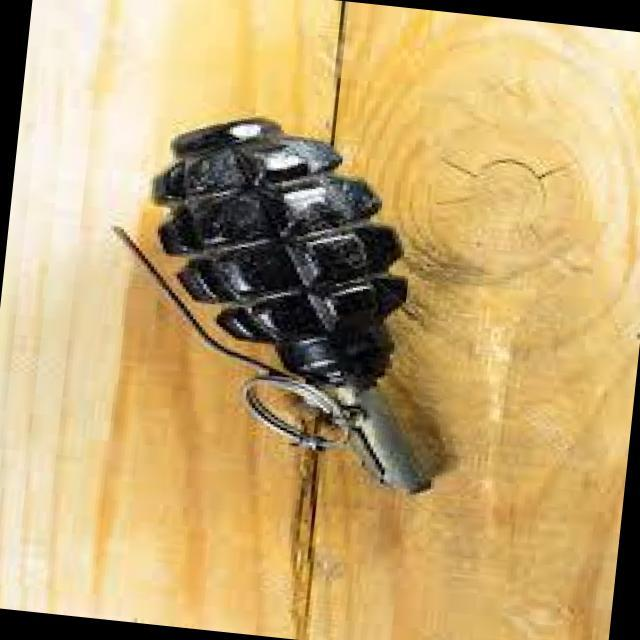grenade: (134, 112, 472, 498)
